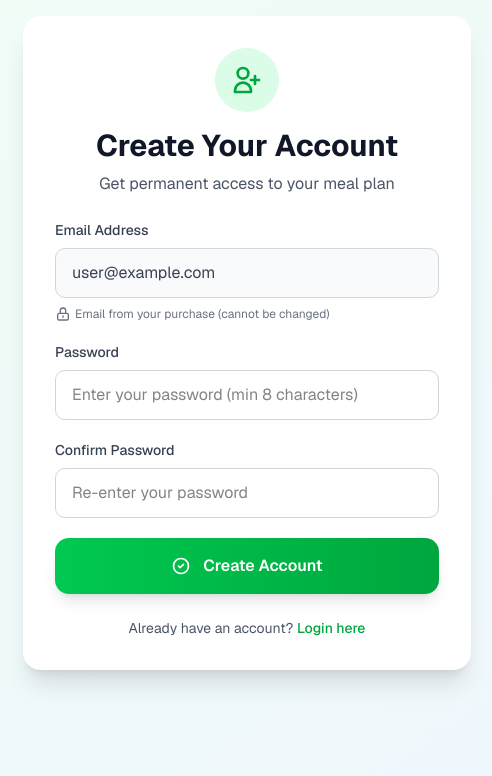
Test case: CreateAccountPage › Form Validation › should validate password confirmation match
The image size is (492, 776).
In the password field labelled "Password": point(247, 395) [55,370,439,420], type "ValidPassword123!"
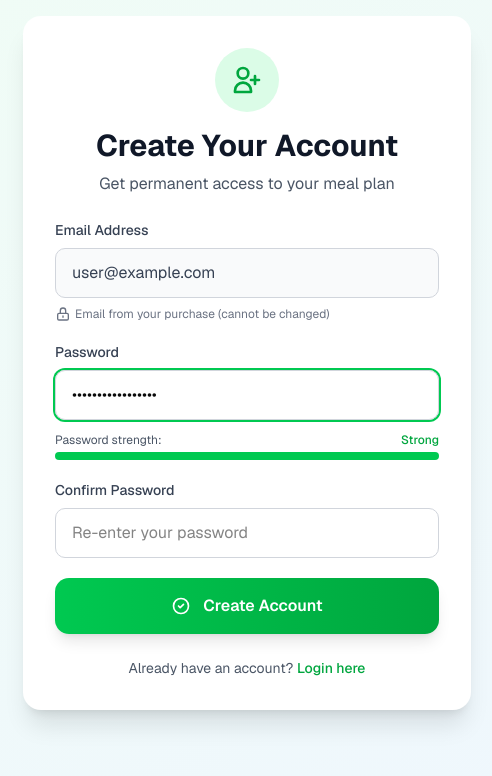
In the password field labelled "Confirm Password": point(247, 533) [55,508,439,558], type "DifferentPassword123!"
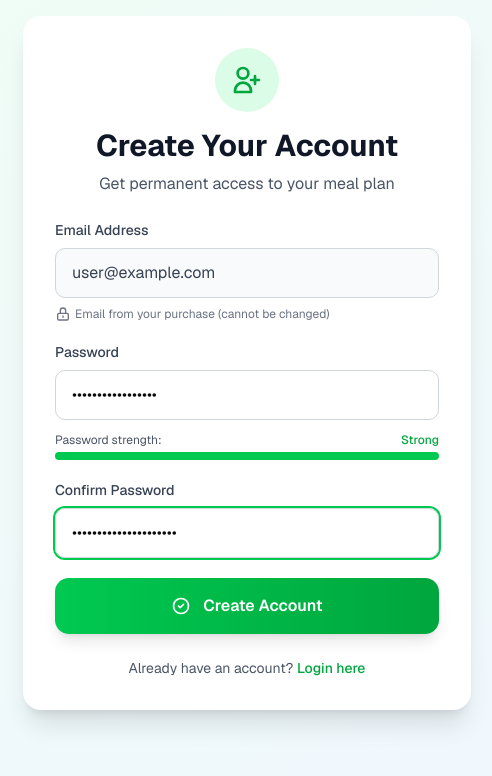
Click the button "Create Account": point(247, 606) [55,578,439,634]
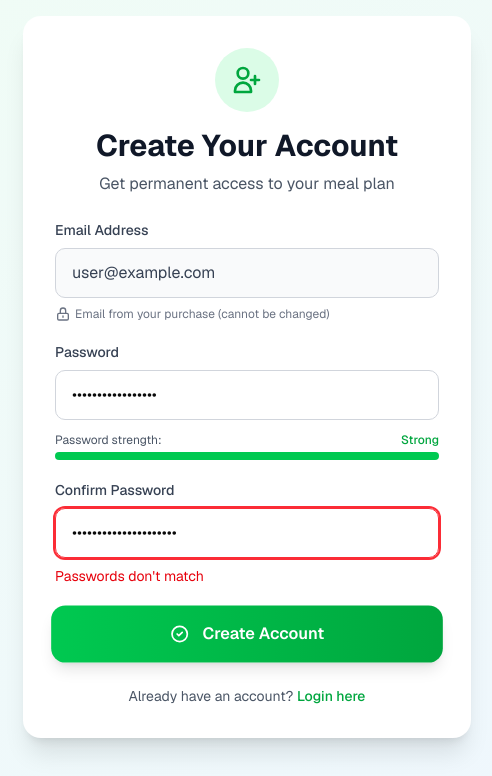
Expected: the text "Passwords don't match" is shown, [55,567,204,585]
